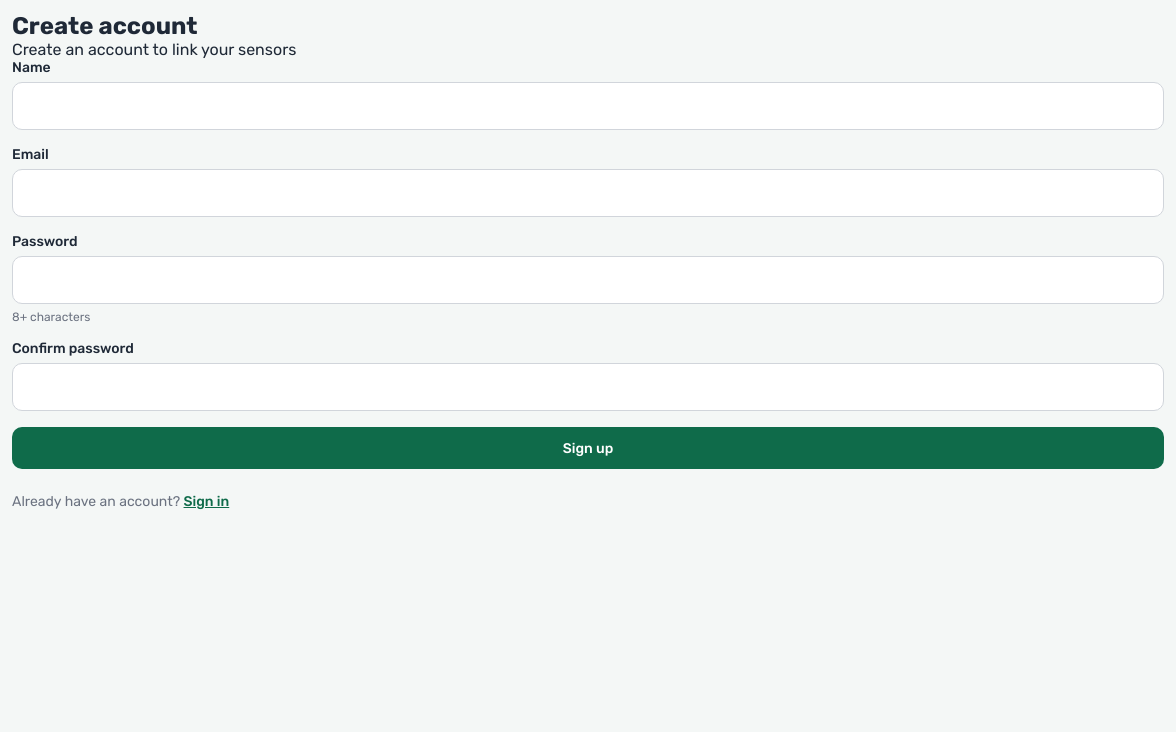
Test case: Signup › checks a short password without a request, and typing clears the message
Type "Sara" into the field labelled "Name".
click(588, 106); type("Sara")  # box [12,82,1164,130]
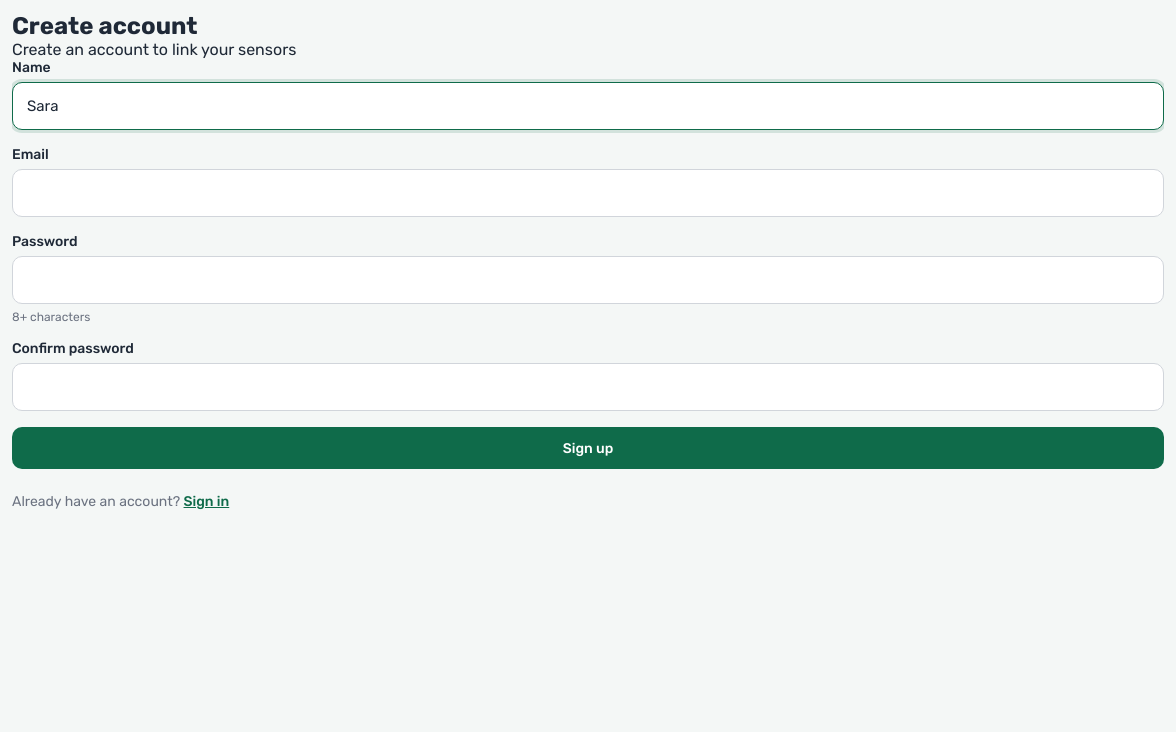
Type "sara@example.com" into the field labelled "Email".
click(588, 193); type("sara@example.com")  # box [12,169,1164,217]
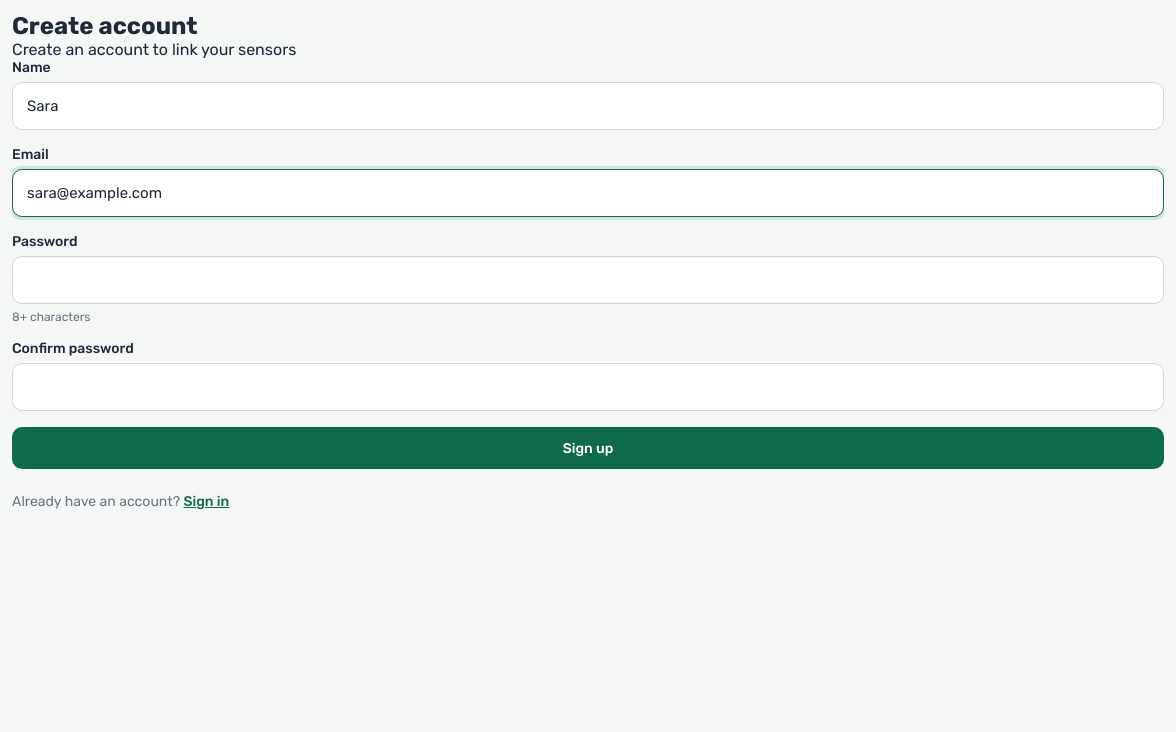
Type "short" into the password field labelled "Password 8+ characters".
click(588, 280); type("short")  # box [12,256,1164,304]
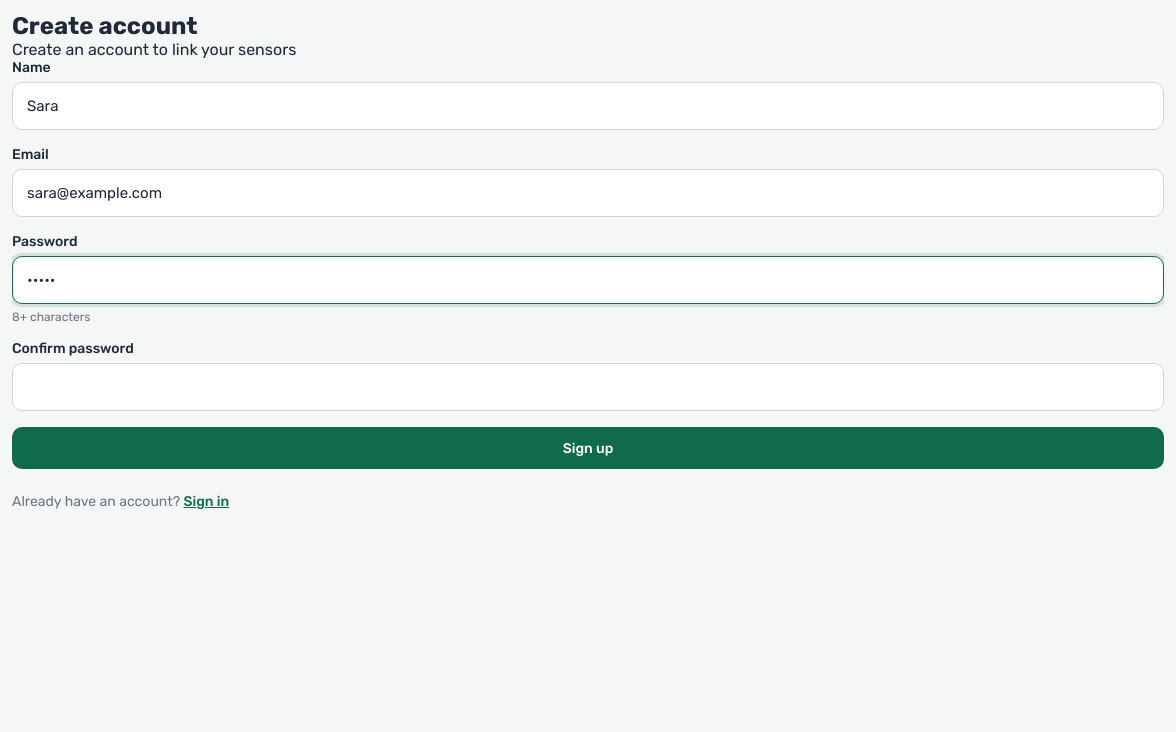
Type "short" into the password field labelled "Confirm password".
click(588, 387); type("short")  # box [12,363,1164,411]
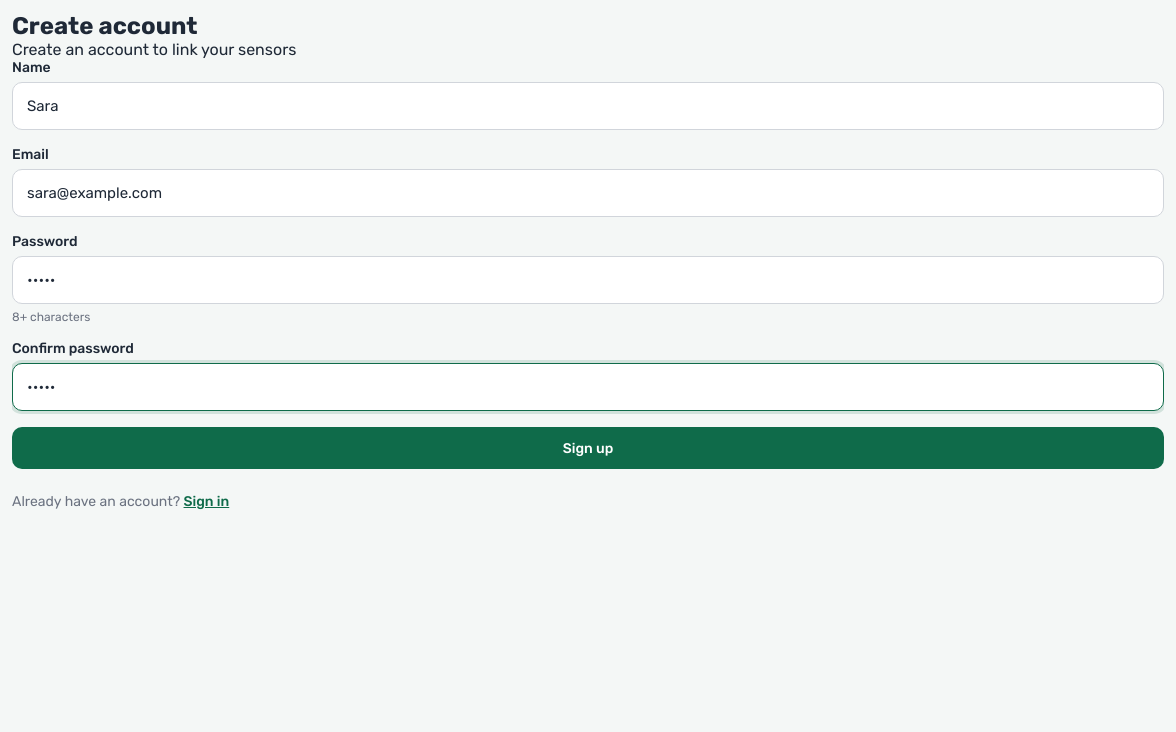
Click the button "Sign up".
click(588, 448)  # box [12,427,1164,469]
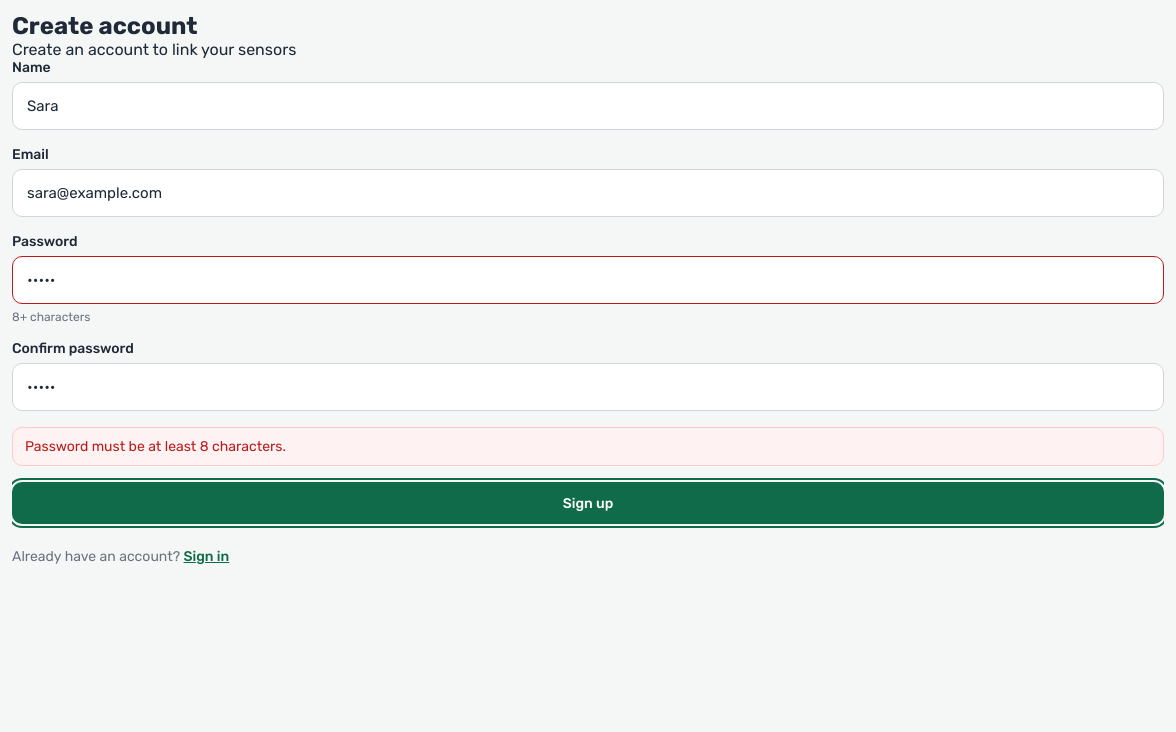
Type "x" into the password field labelled "Password 8+ characters".
click(588, 280); type("x")  # box [12,256,1164,304]
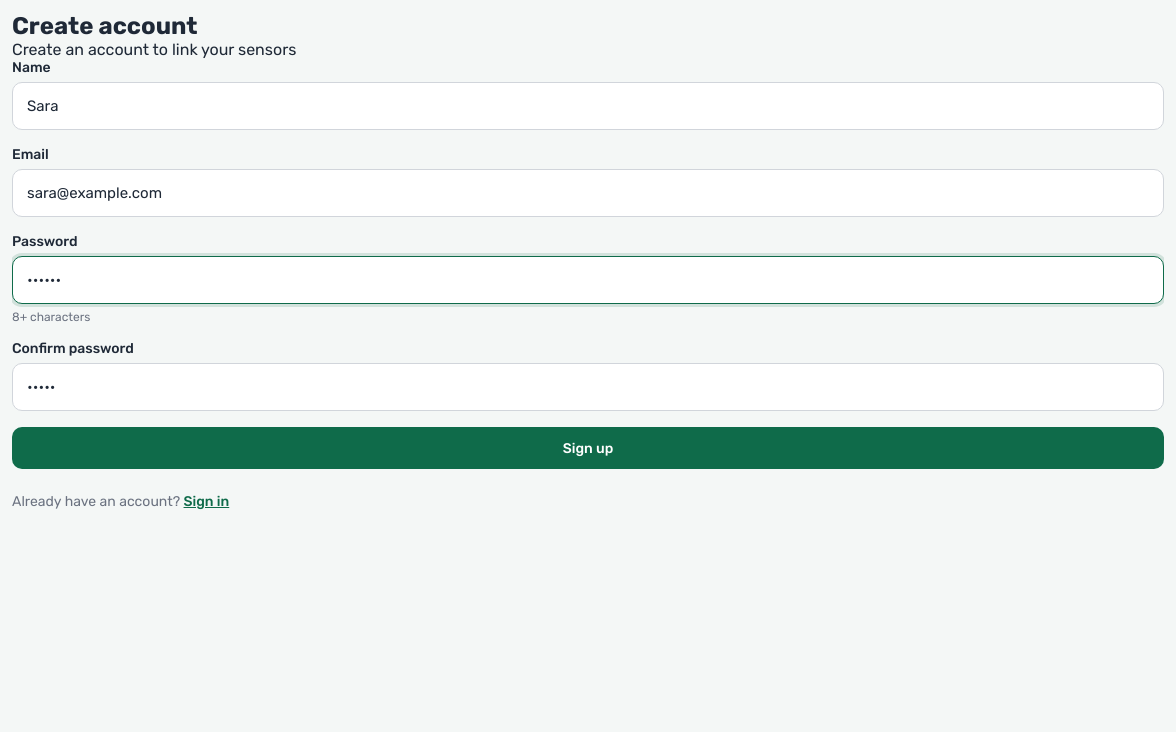
Result: the message "Password must be at least 8 characters." is gone
